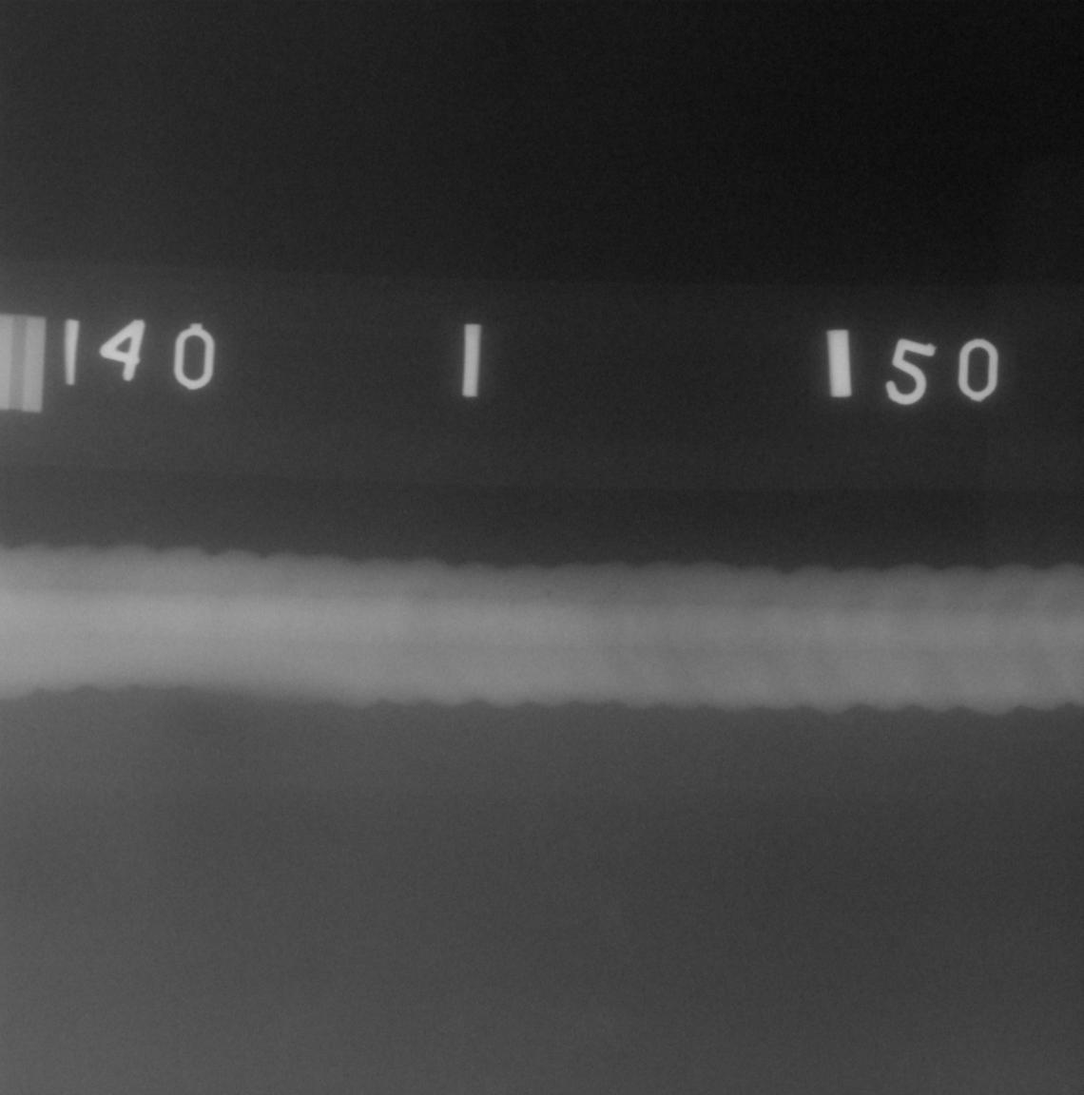Pore/Porosity: (546, 590, 553, 597)
